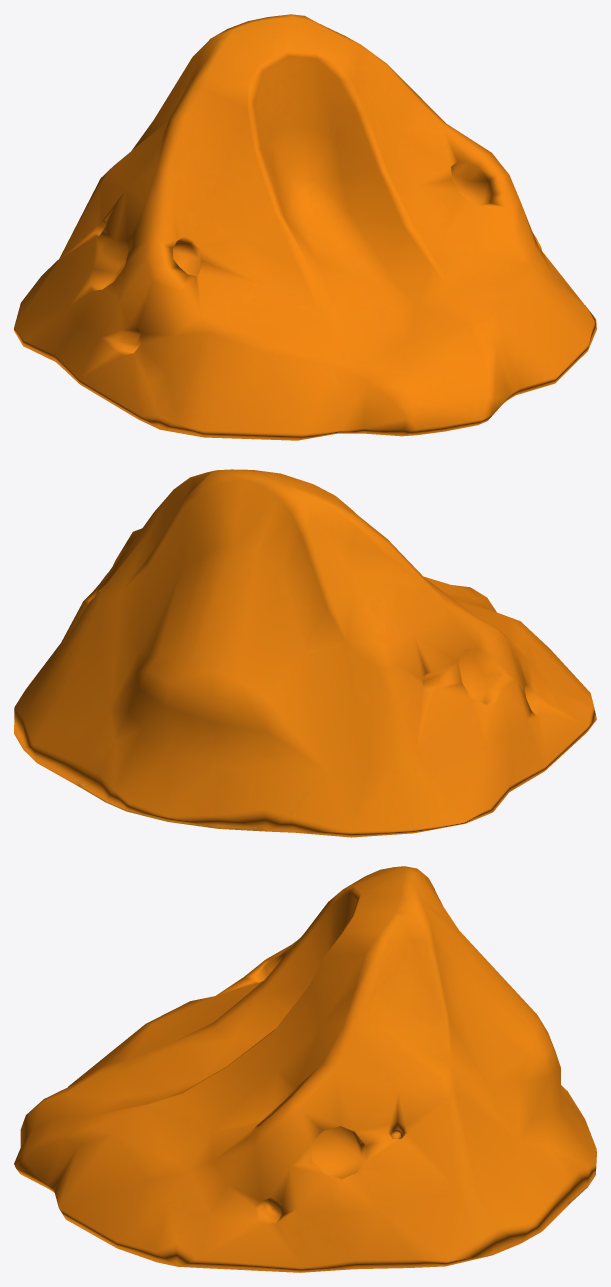
File: desert-dune.glb
The picture shows the model from 3 angles, top to bottom: view 1: azimuth 30°, elevation 25°; view 2: azimuth 150°, elevation 25°; view 3: azimuth 270°, elevation 25°; orthographic projection.
Size of the model in its own units: 0.9106 by 0.5045 by 0.9604.
Materials: 1 (1 with a texture image).
